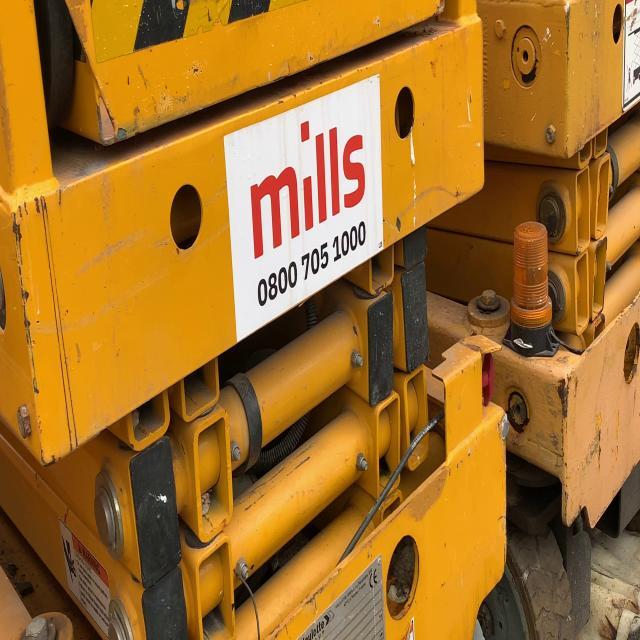Adesivos: (222, 71, 389, 348)
